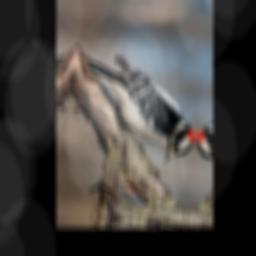Woodpecker: (71, 52, 204, 171)
